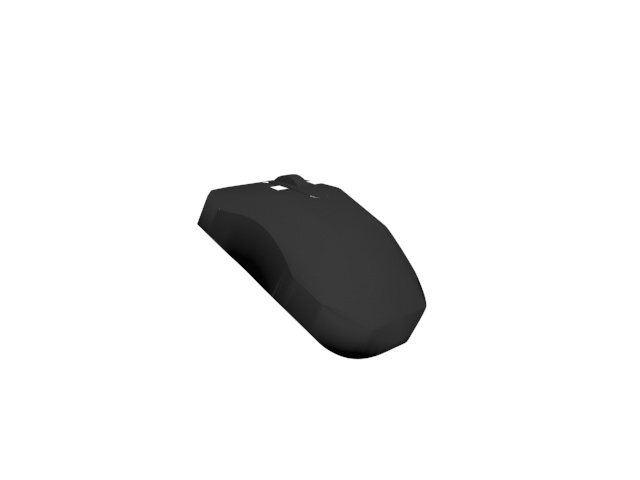mouse: (193, 169, 432, 360)
